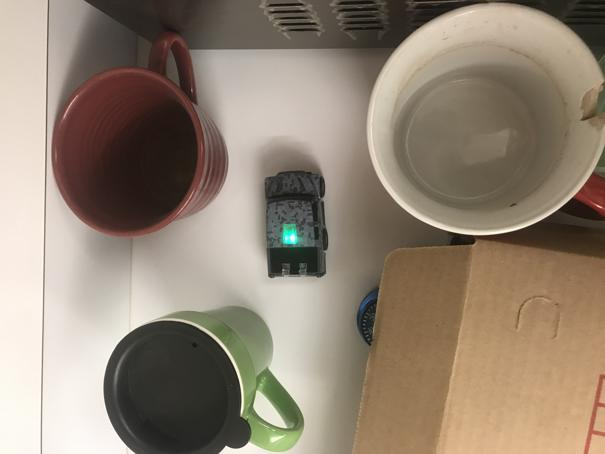MXT: (263, 170, 328, 278)
